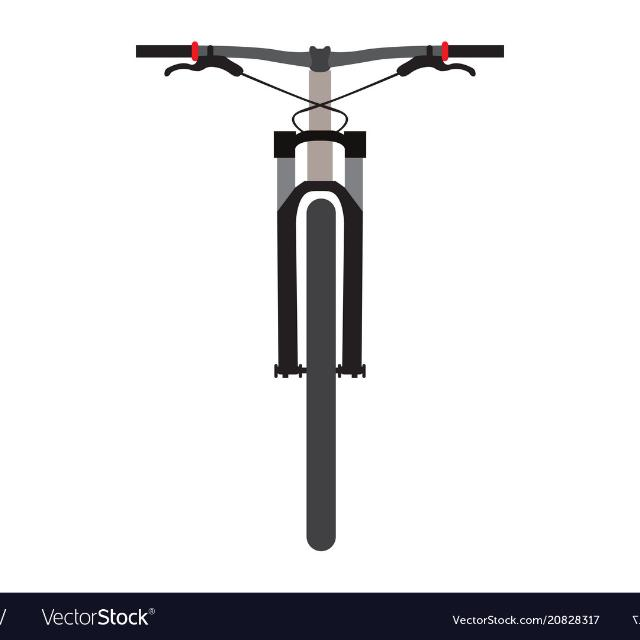obstacle: (121, 28, 517, 570)
